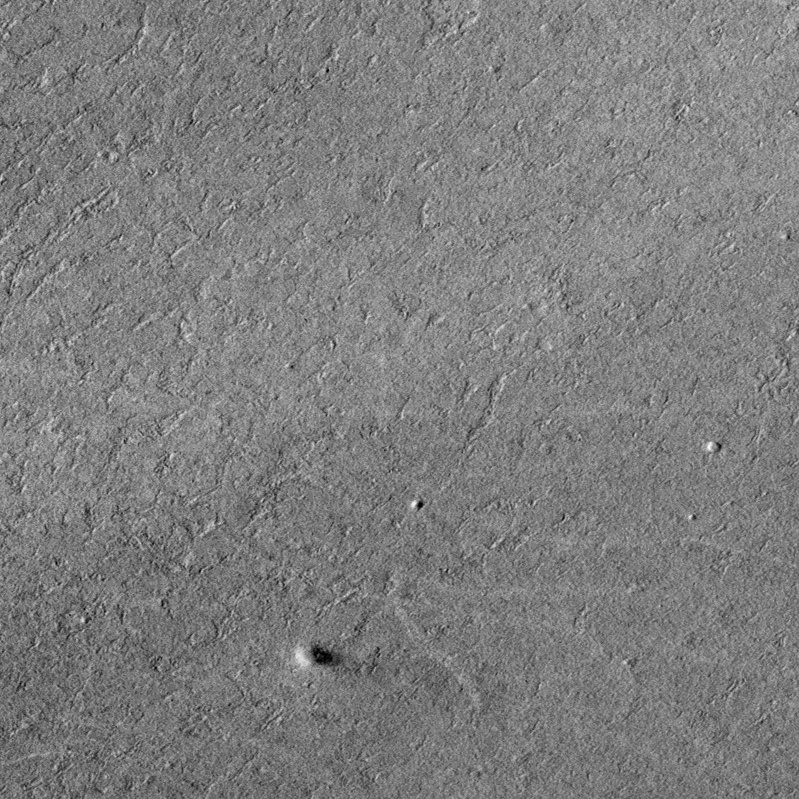dust_devil: (294, 643, 345, 668)
